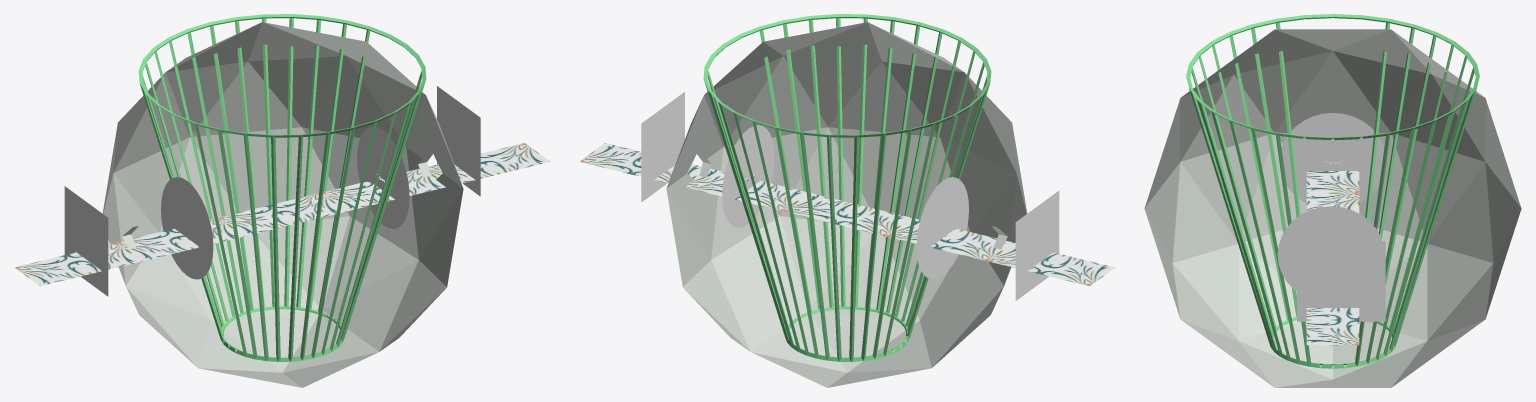
File: room_01.glb
The picture shows the model from 3 angles, left to right: view 1: azimuth 30°, elevation 25°; view 2: azimuth 150°, elevation 25°; view 3: azimuth 270°, elevation 25°; orthographic projection.
Visible parts, largest first — view 1: Icosphere, Ring, Walkway, LinkB, Wall.001, Wall, LinkA; view 2: Icosphere, Ring, Walkway, LinkB, Wall.001, Wall, LinkA; view 3: Icosphere, Ring, Wall, LinkB, Walkway, LinkA.
Part boxes in pixels (left/top/right/bottom): Icosphere: left=102, top=22, right=463, bottom=387; Ring: left=138, top=14, right=426, bottom=361; Walkway: left=14, top=143, right=550, bottom=286; LinkB: left=161, top=177, right=213, bottom=279; Wall.001: left=64, top=186, right=108, bottom=296; Wall: left=437, top=86, right=480, bottom=196; LinkA: left=357, top=126, right=409, bottom=228; Icosphere: left=666, top=22, right=1027, bottom=387; Ring: left=703, top=14, right=991, bottom=361; Walkway: left=579, top=143, right=1115, bottom=286; LinkB: left=916, top=177, right=968, bottom=279; Wall.001: left=1015, top=190, right=1059, bottom=300; Wall: left=641, top=92, right=684, bottom=202; LinkA: left=722, top=125, right=774, bottom=227; Icosphere: left=1144, top=29, right=1521, bottom=387; Ring: left=1186, top=14, right=1479, bottom=368; Wall: left=1297, top=241, right=1385, bottom=321; LinkB: left=1280, top=113, right=1385, bottom=202; Walkway: left=1306, top=171, right=1359, bottom=345; LinkA: left=1277, top=206, right=1381, bottom=291.
Bounding box in the file's own units: 111 × 69.94 × 69.94.
Materials: 5 (1 with a texture image).
